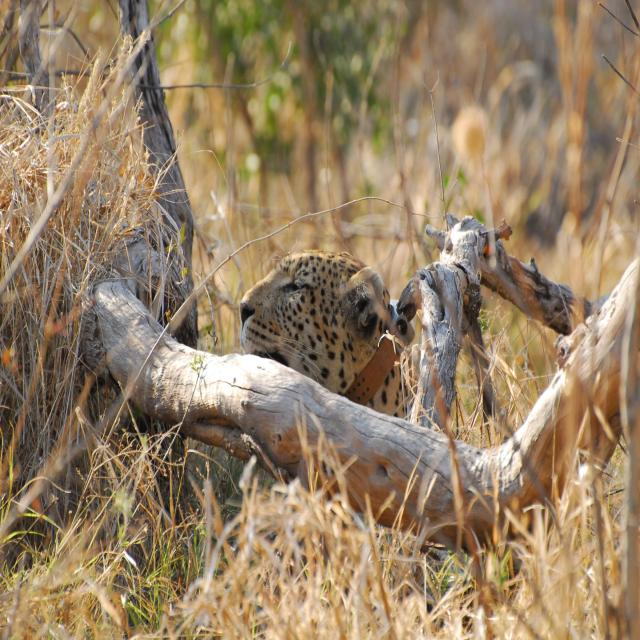Leopard: (240, 245, 406, 430)
